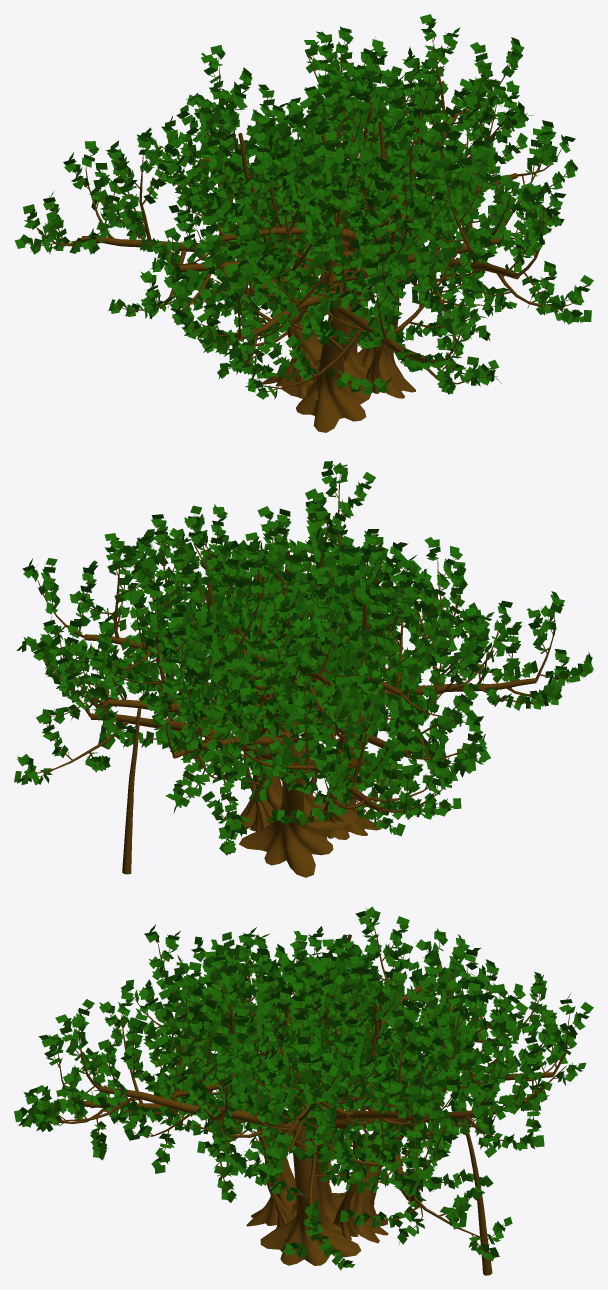
File: Arbol3.fbx
3 views of the same model, one above another, from view 1: azimuth 30°, elevation 25°; view 2: azimuth 150°, elevation 25°; view 3: azimuth 270°, elevation 25° (orthographic). The views are drawn at different scales.
Parts seen in each view (by area): view 1: Árbol2; view 2: Árbol2; view 3: Árbol2.
Boxes of the visible parts, x1,y1,x2,y2 form: Árbol2: (14,14,593,432); Árbol2: (14,461,593,877); Árbol2: (14,906,593,1275).
Bounding box in the file's own units: 1012 × 645 × 1087.
